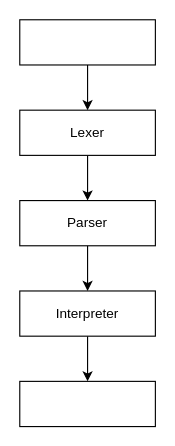
The diagram is 175 pixels wide and 446 high, and some of its shapes have lost their labels. Each missing label, with the centre of its shape:
"Entrypoint" belongs at (87,42).
"Execution" belongs at (87,403).
